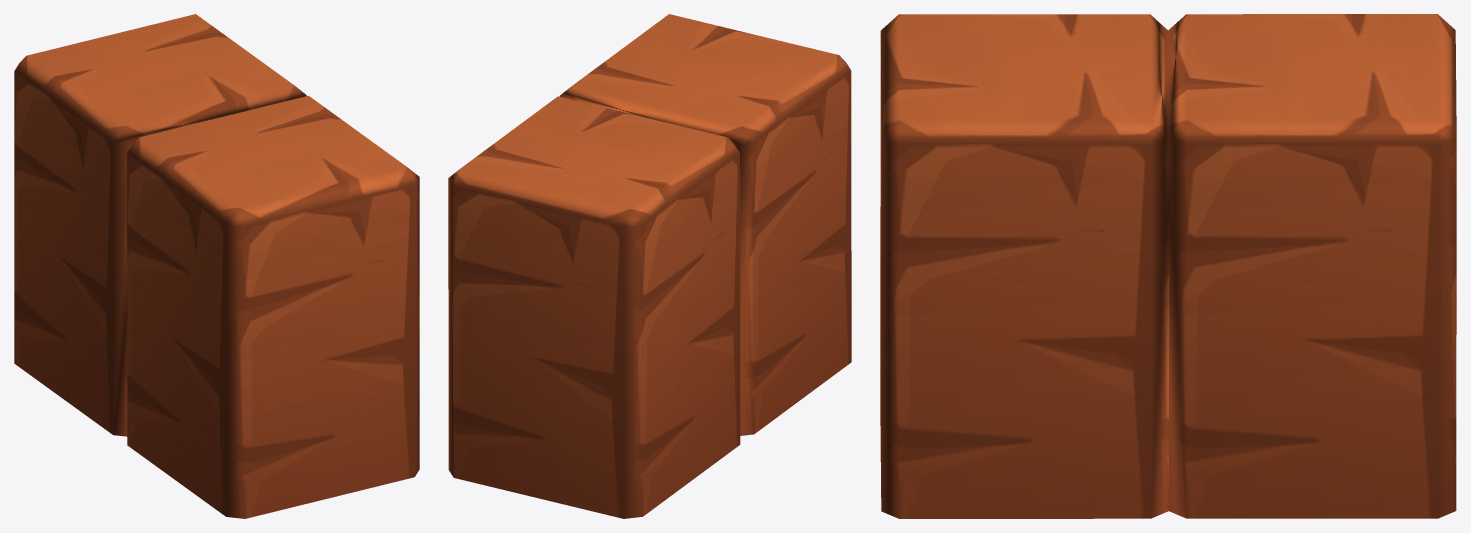
File: Brick_02.fbx
The picture shows the model from 3 angles, left to right: view 1: azimuth 30°, elevation 25°; view 2: azimuth 150°, elevation 25°; view 3: azimuth 270°, elevation 25°; orthographic projection. The views are drawn at different scales.
Parts seen in each view (by area): view 1: Brick_02; view 2: Brick_02; view 3: Brick_02.
Part boxes in pixels (bbox=[...]): Brick_02: bbox=[14, 14, 419, 518]; Brick_02: bbox=[448, 14, 851, 518]; Brick_02: bbox=[880, 14, 1456, 518].
Bounding box in the file's own units: 79.16 × 118 × 158.
